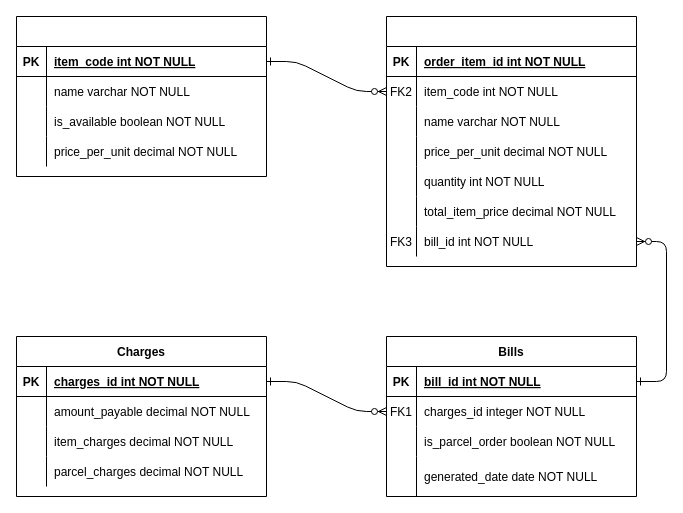
The diagram is 683 pixels wide and 513 high, and some of its shapes have lost their labels. The box of each missing label's shape, as (x1, y1, x2, y2) in pixels:
Menu: (16, 16, 266, 176)
Order_Items: (386, 16, 636, 266)
